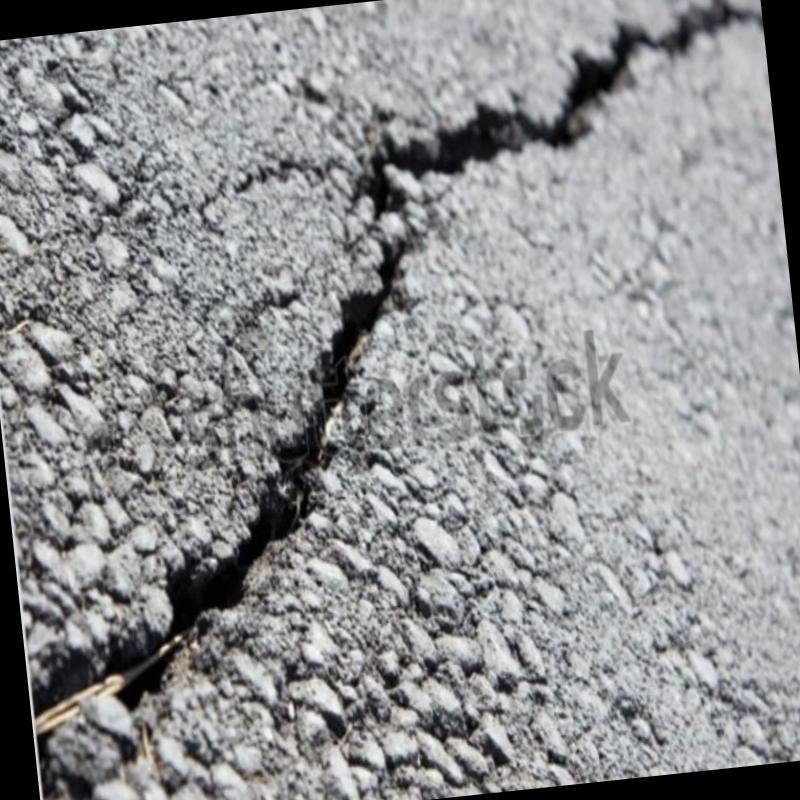crack: (32, 0, 762, 752)
